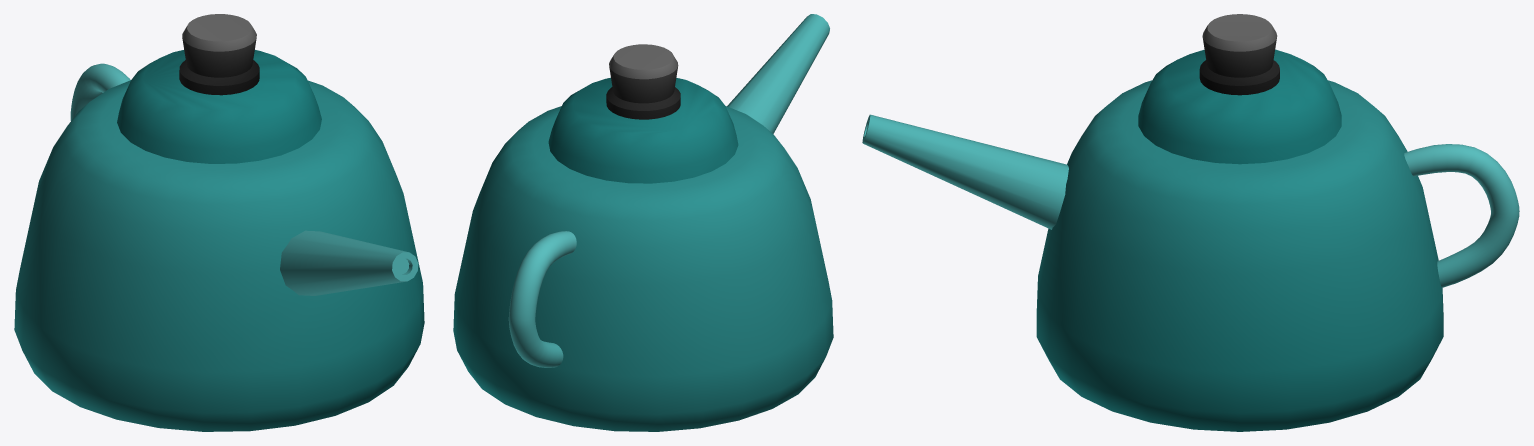
Rendered from Tea Pot_5.fbx.
The picture shows the model from 3 angles, left to right: view 1: azimuth 30°, elevation 25°; view 2: azimuth 150°, elevation 25°; view 3: azimuth 270°, elevation 25°; orthographic projection. The views are drawn at different scales.
Parts seen in each view (by area): view 1: Tea Pot_5, Tea Pot_5 Top; view 2: Tea Pot_5, Tea Pot_5 Top; view 3: Tea Pot_5, Tea Pot_5 Top.
Part boxes in pixels (bbox=[...]): Tea Pot_5: bbox=[14, 63, 424, 431]; Tea Pot_5 Top: bbox=[117, 14, 321, 163]; Tea Pot_5: bbox=[453, 14, 833, 431]; Tea Pot_5 Top: bbox=[548, 44, 738, 183]; Tea Pot_5: bbox=[862, 80, 1519, 431]; Tea Pot_5 Top: bbox=[1138, 14, 1341, 164].
Bounding box in the file's own units: 0.2122 × 0.189 × 0.3401.
